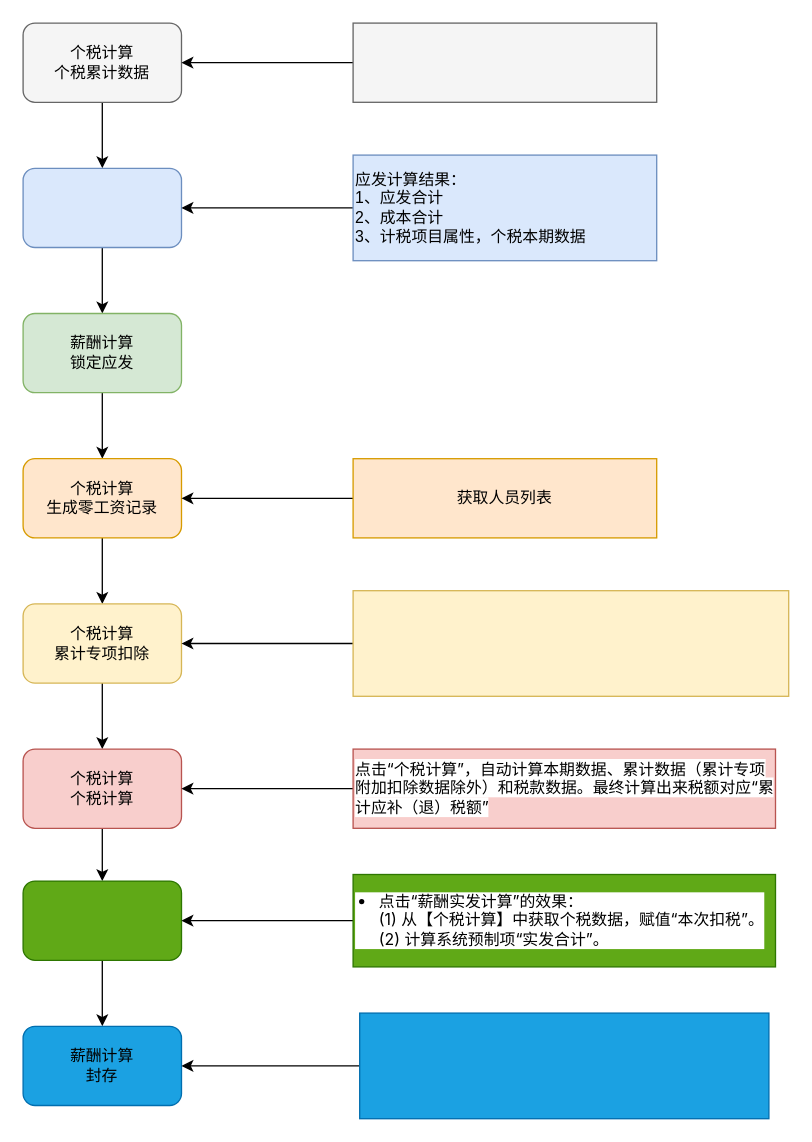
The diagram is 812 pixels wide and 1142 high, and some of its shapes have lost their labels. Each missing label, with the centre of its shape:
1、1月开始，使用系统，不需要初始化； 2、非1月，需要导入数据: the point at 504,62
“封存”涵义：代表本次薪酬数据整体核算完毕，可进行工资数据的后续运用，如工资条下发、工资数据报表查询等。: the point at 563,1065
累计专项附加扣除数据一般由财务人员定期从税局扣缴端采集并下载；点击“导入累计专项附加扣除”按钮，下载导入模板并导入数据。: the point at 570,642
薪酬计算 实发计算: the point at 102,920
薪酬计算 应发计算: the point at 102,207
